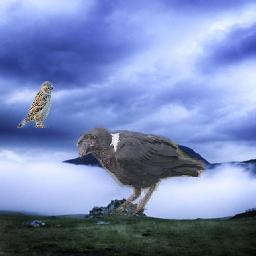Crow: (76, 124, 206, 214)
Sparrow: (17, 82, 53, 129)
